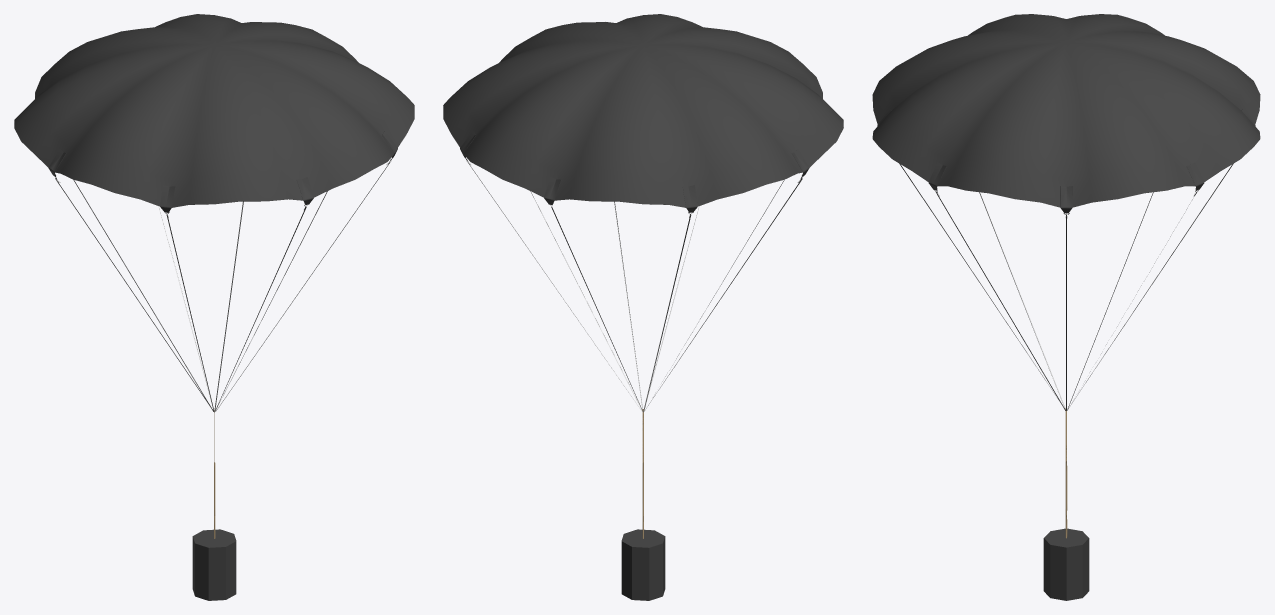
File: syoumeidan.fbx
The picture shows the model from 3 angles, left to right: view 1: azimuth 30°, elevation 25°; view 2: azimuth 150°, elevation 25°; view 3: azimuth 270°, elevation 25°; orthographic projection.
Visible parts, largest first — view 1: senkoudan:obj1, pCylinder1; view 2: senkoudan:obj1, pCylinder1; view 3: senkoudan:obj1, pCylinder1.
Boxes of the visible parts, x1=… form: senkoudan:obj1: x1=14, y1=14, x2=414, y2=538; pCylinder1: x1=192, y1=529, x2=236, y2=600; senkoudan:obj1: x1=443, y1=14, x2=843, y2=538; pCylinder1: x1=621, y1=529, x2=665, y2=600; senkoudan:obj1: x1=872, y1=14, x2=1260, y2=538; pCylinder1: x1=1043, y1=528, x2=1089, y2=600.
Size of the model in its own units: 4.93 by 7.69 by 4.92.
